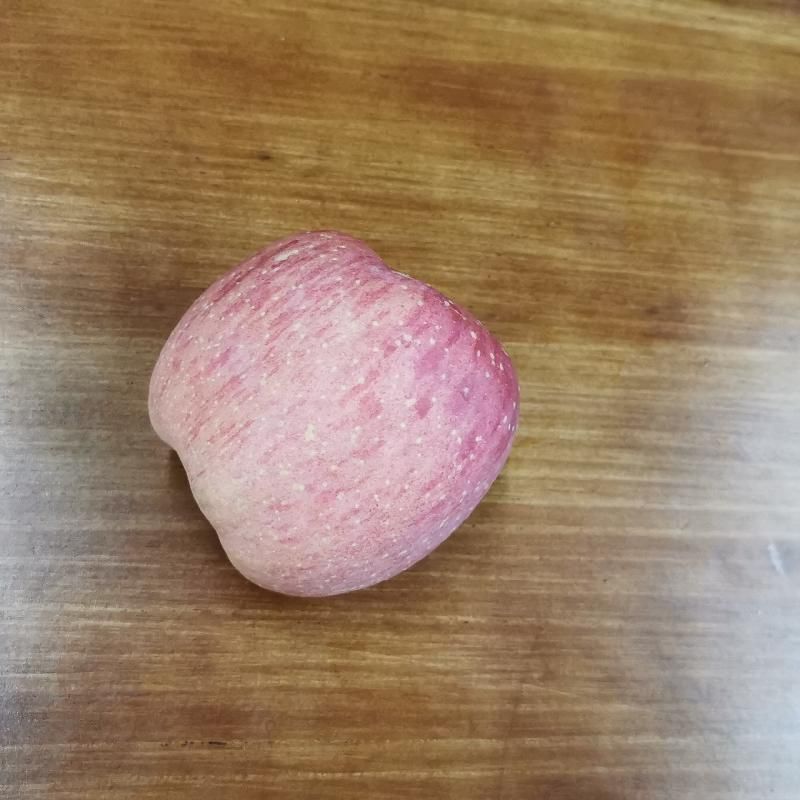apples: (147, 229, 519, 600)
